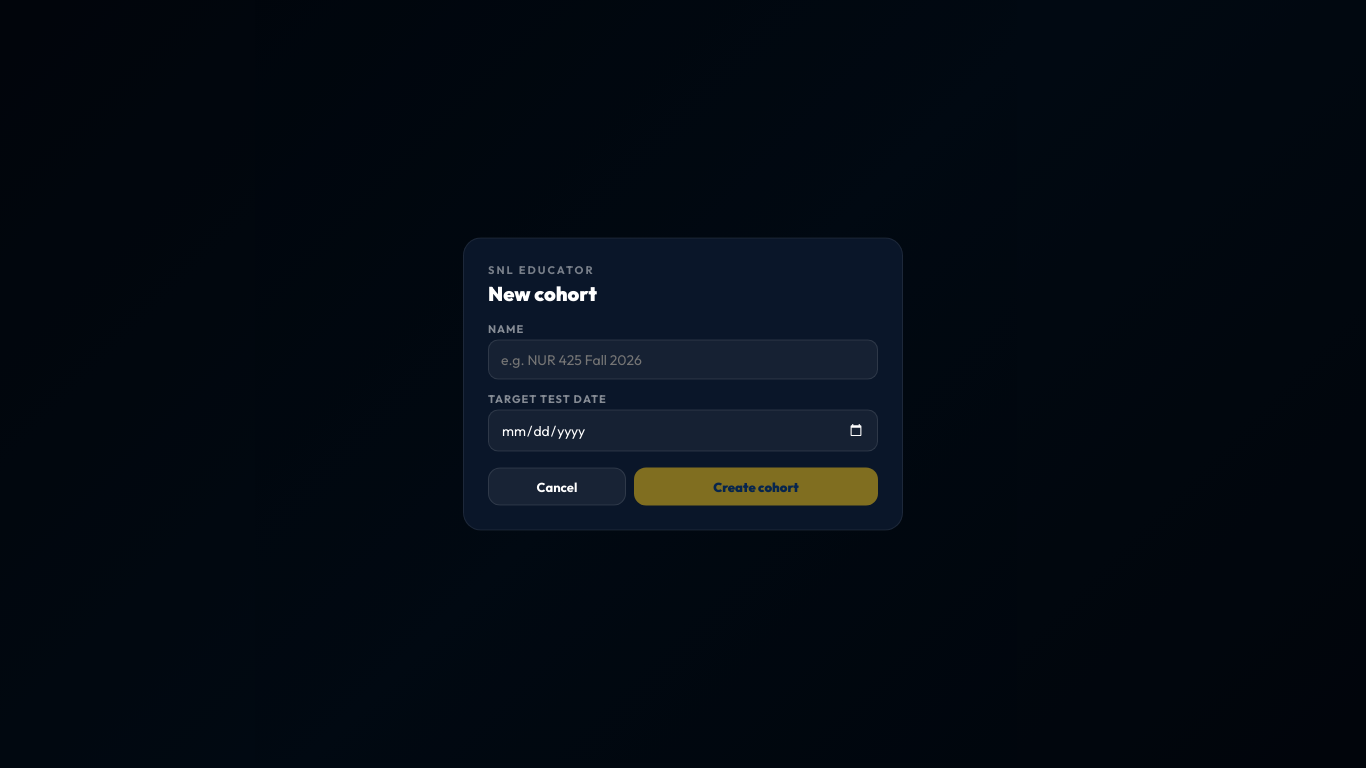
Test: CohortManageModal › create mode validates that name is required
Expected: the button with test id "cohort-submit-btn" is disabled, x1=634 y1=468 x2=878 y2=506
Type "NUR 425" into the field named "cohort name" at (683, 360), box x1=488 y1=340 x2=878 y2=380
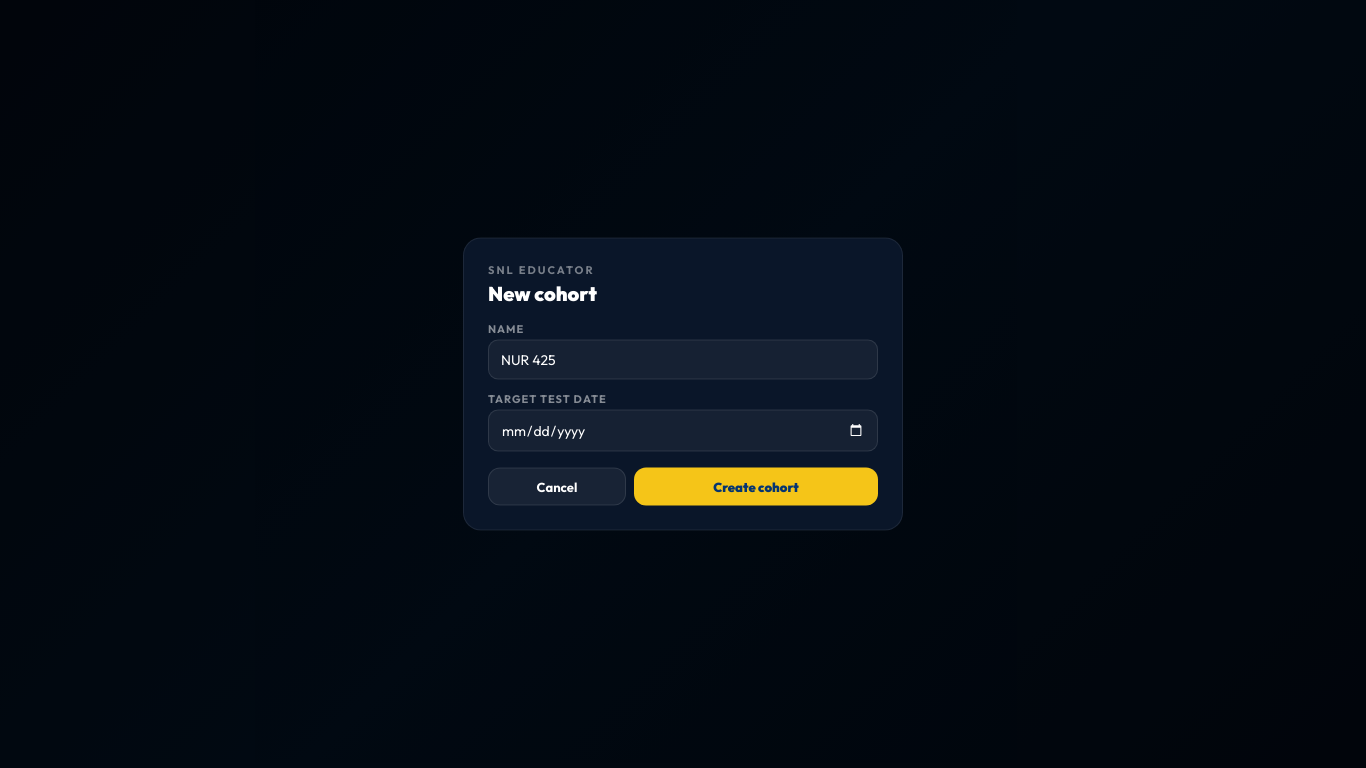
Now the button with test id "cohort-submit-btn" is enabled, box x1=634 y1=468 x2=878 y2=506
